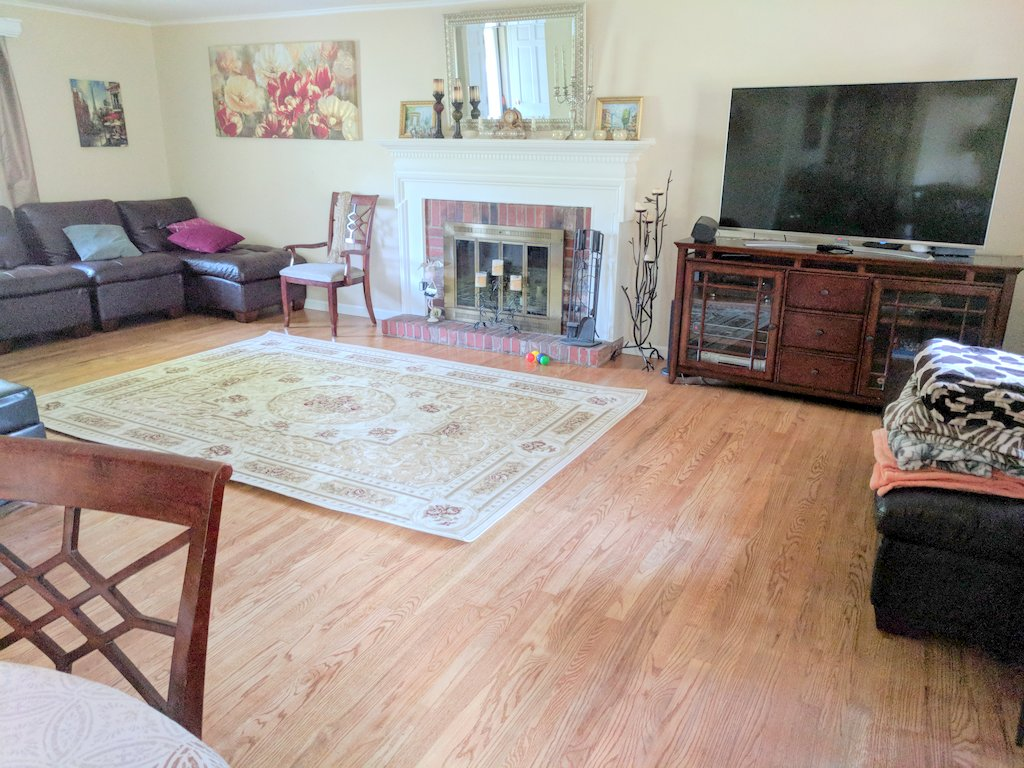ball: (531, 351, 539, 361)
